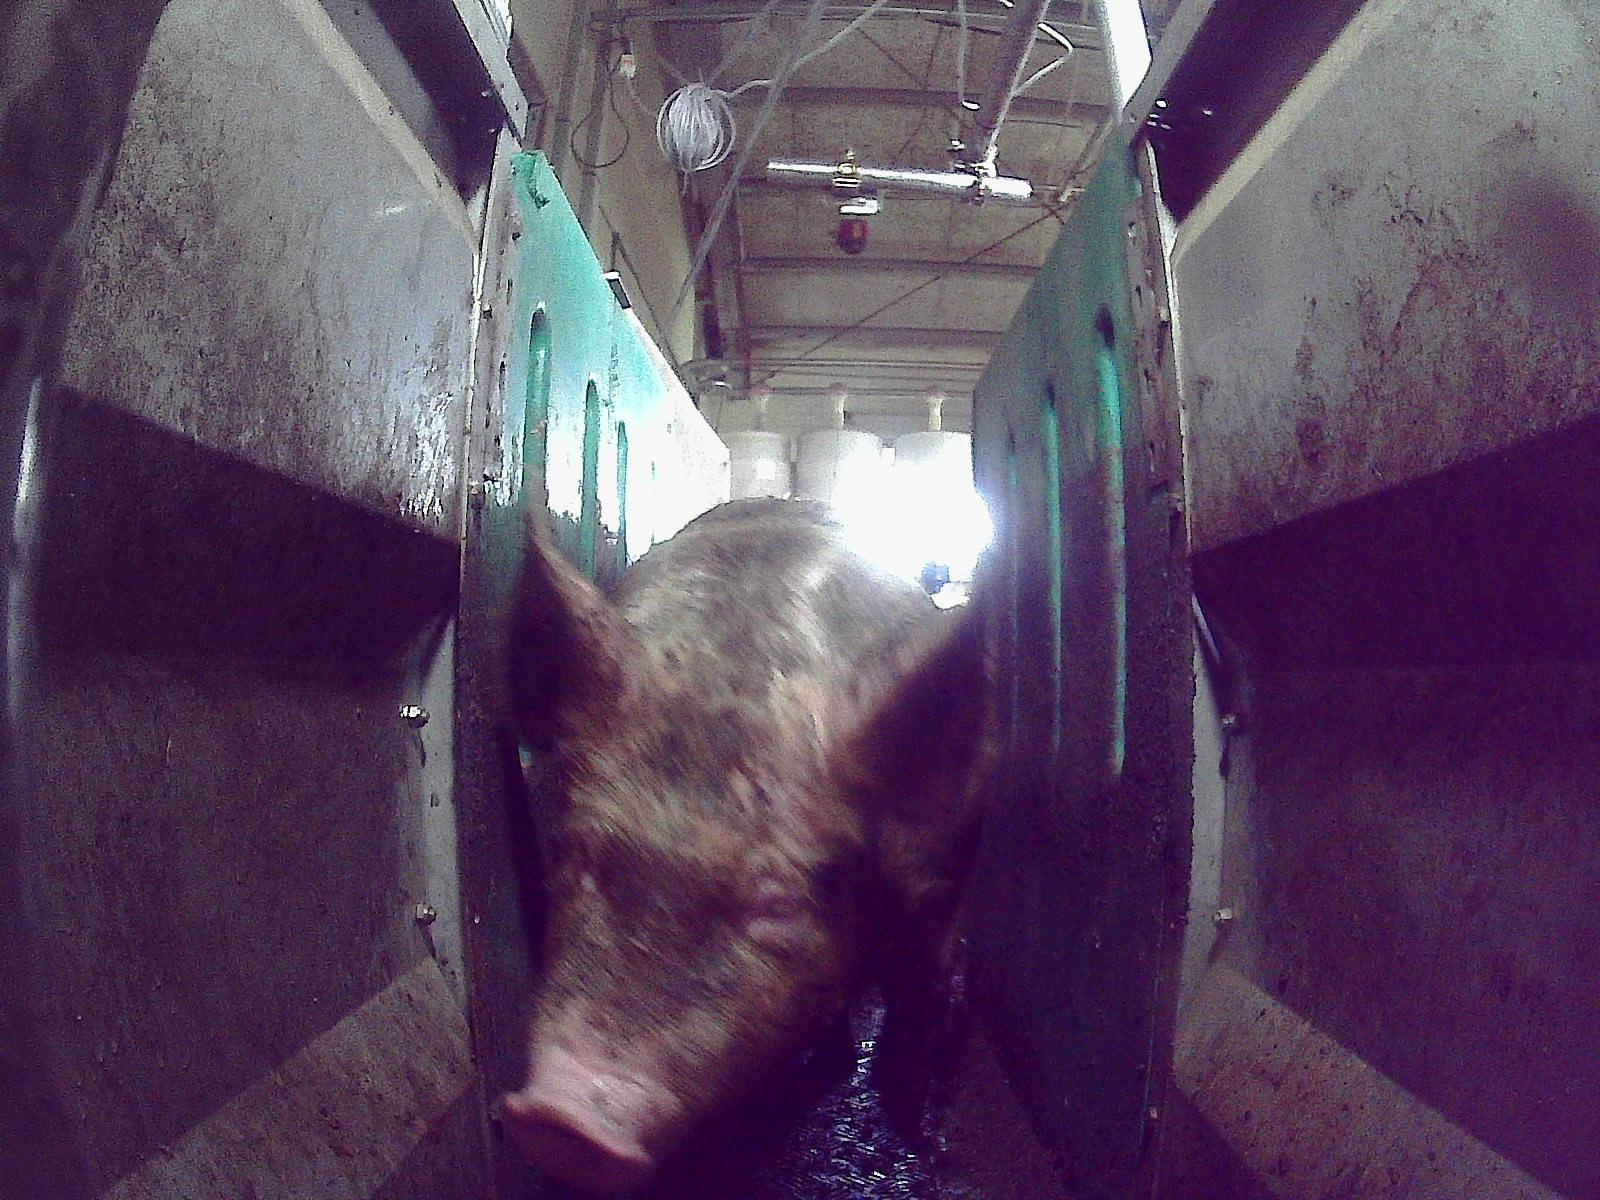Face: (499, 614, 911, 1196)
